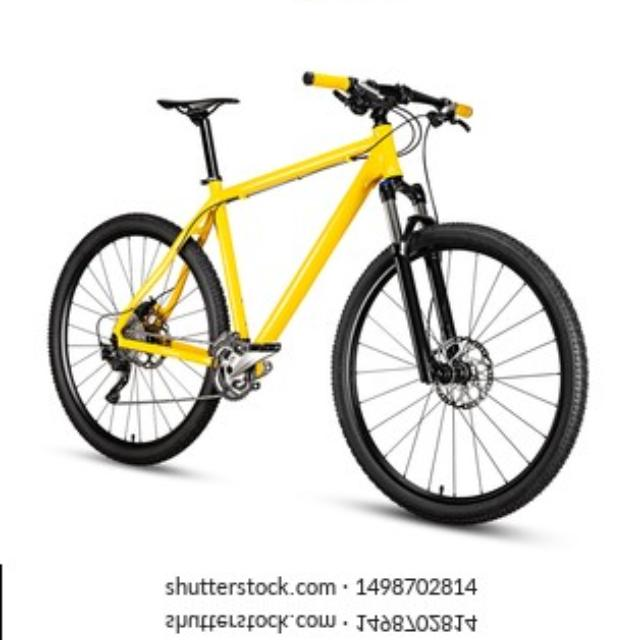obstacle: (21, 52, 634, 562), (21, 0, 634, 15)
